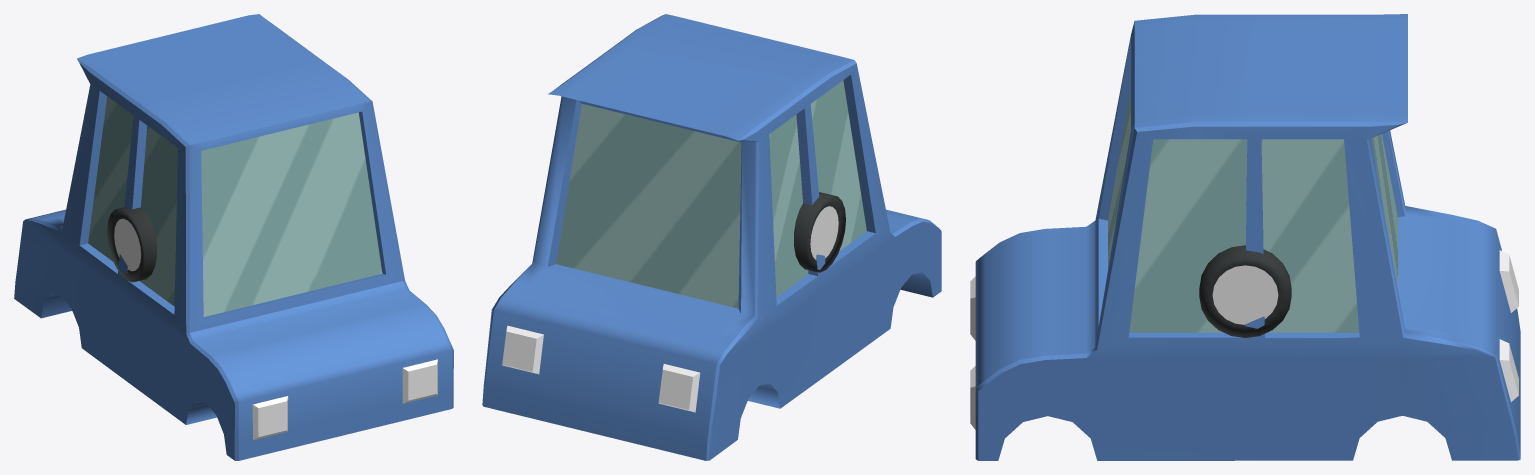
Rendered from car_5_B.fbx.
The picture shows the model from 3 angles, left to right: view 1: azimuth 30°, elevation 25°; view 2: azimuth 150°, elevation 25°; view 3: azimuth 270°, elevation 25°; orthographic projection. The views are drawn at different scales.
Visible parts, largest first — view 1: car_5_chasis_B, car_5_back_wheel_B, car_5_right_wheel_B; view 2: car_5_chasis_B, car_5_back_wheel_B, car_5_right_wheel_B; view 3: car_5_chasis_B, car_5_left_wheel_B.
Boxes of the visible parts, x1,y1,x2,y2 form: car_5_chasis_B: (14,14,453,460); car_5_back_wheel_B: (107,207,150,282); car_5_right_wheel_B: (122,209,156,280); car_5_chasis_B: (482,14,941,460); car_5_back_wheel_B: (794,195,845,272); car_5_right_wheel_B: (794,192,833,268); car_5_chasis_B: (970,14,1520,460); car_5_left_wheel_B: (1199,245,1291,337).
Size of the model in its own units: 103 by 121 by 183.
